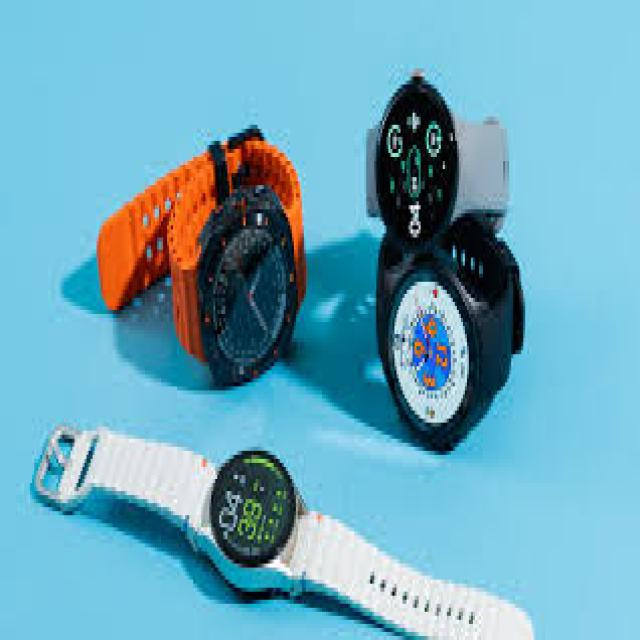objects: (34, 427, 533, 636), (97, 129, 306, 384), (374, 234, 526, 453), (365, 64, 511, 237)
